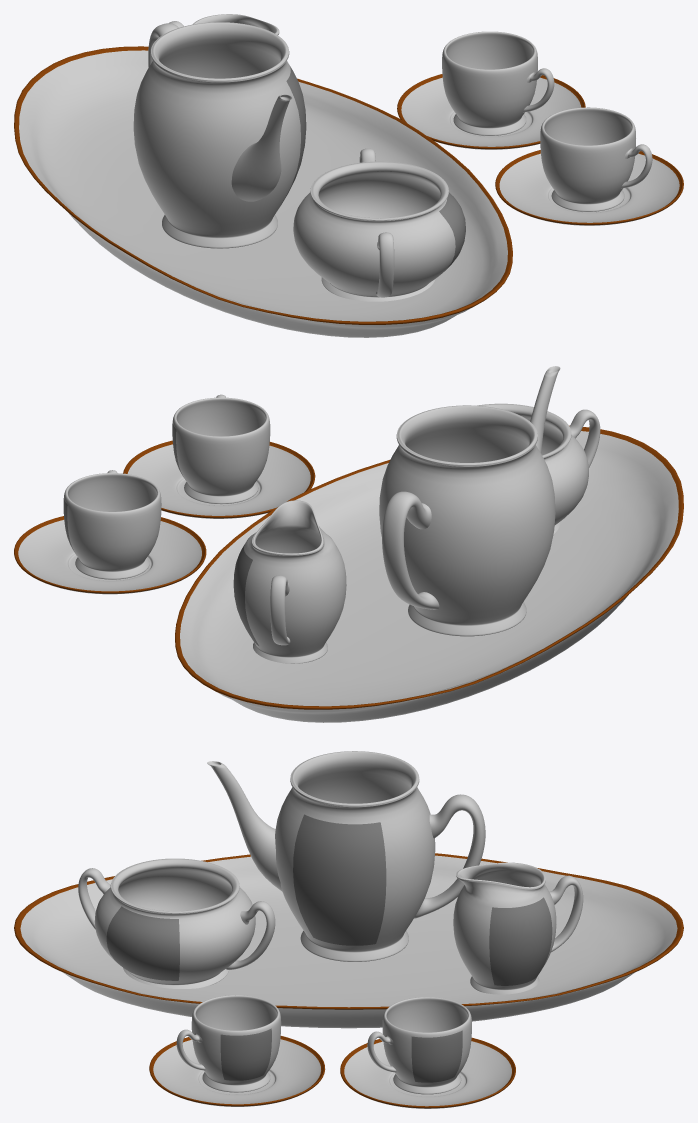
The picture shows the model from 3 angles, top to bottom: view 1: azimuth 30°, elevation 25°; view 2: azimuth 150°, elevation 25°; view 3: azimuth 270°, elevation 25°; orthographic projection. The views are drawn at different scales.
Visible parts, largest first — view 1: Line004, Line001, Line005, Line008, Line009, Line010, Line007, Cylinder002, Box004, Line006, Box008, Box010; view 2: Line004, Line001, Line006, Line009, Line008, Line007, Line010, Line005, Box007, Box006, Cylinder002, Box004; view 3: Line004, Line001, Line005, Line006, Line009, Line008, Line010, Line007, Cylinder002, Box007, Box006, Box005 (+1 smaller).
Part boxes in pixels (x1,y1,x2,y2): Line004: [14, 46, 512, 337]; Line001: [133, 22, 306, 248]; Line005: [293, 161, 465, 301]; Line008: [442, 31, 537, 135]; Line009: [540, 107, 635, 211]; Line010: [495, 150, 683, 225]; Line007: [397, 74, 585, 149]; Cylinder002: [231, 94, 292, 201]; Box004: [375, 232, 394, 297]; Line006: [192, 14, 279, 35]; Box008: [523, 68, 554, 112]; Box010: [621, 144, 652, 188]; Line004: [175, 425, 683, 722]; Line001: [379, 405, 555, 636]; Line006: [233, 500, 346, 663]; Line009: [172, 397, 270, 504]; Line008: [63, 473, 161, 579]; Line007: [14, 516, 206, 594]; Line010: [123, 440, 315, 518]; Line005: [477, 403, 588, 534]; Box007: [382, 491, 439, 609]; Box006: [270, 575, 290, 645]; Cylinder002: [530, 366, 560, 453]; Box004: [569, 409, 600, 467]; Line004: [14, 853, 683, 1028]; Line001: [275, 751, 435, 961]; Line005: [94, 858, 255, 988]; Line006: [453, 862, 556, 994]; Line009: [191, 995, 281, 1092]; Line008: [382, 997, 471, 1094]; Line010: [149, 1036, 325, 1106]; Line007: [340, 1037, 515, 1108]; Cylinder002: [207, 761, 282, 891]; Box007: [414, 794, 485, 918]; Box006: [549, 875, 583, 952]; Box005: [226, 901, 275, 969].
Bounding box in the file's own units: 68.89 × 23.71 × 81.51.
